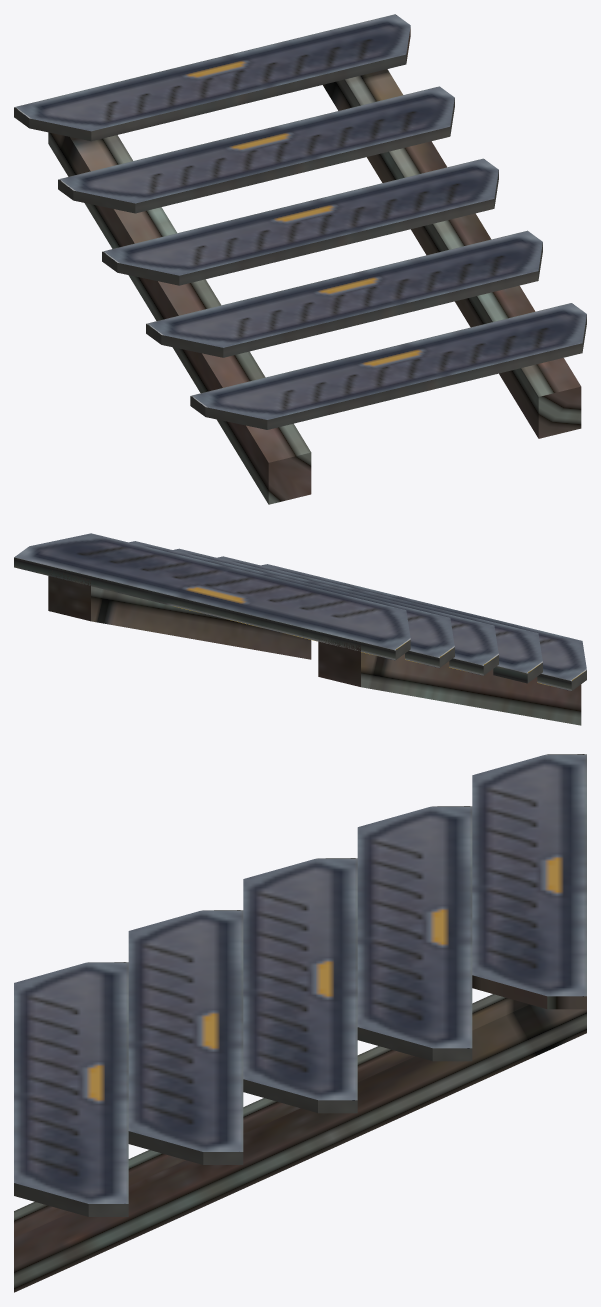
File: MO_METAL_STAIRS_02.fbx
3 views of the same model, one above another, from view 1: azimuth 30°, elevation 25°; view 2: azimuth 150°, elevation 25°; view 3: azimuth 270°, elevation 25° (orthographic). The views are drawn at different scales.
Visible parts, largest first — view 1: MO_METAL STAIRS_02; view 2: MO_METAL STAIRS_02; view 3: MO_METAL STAIRS_02.
Part boxes in pixels (x1,y1,x2,y2): MO_METAL STAIRS_02: (14, 14, 586, 504); MO_METAL STAIRS_02: (14, 533, 586, 725); MO_METAL STAIRS_02: (14, 754, 586, 1292).
Bounding box in the file's own units: 2 × 1.23 × 2.
